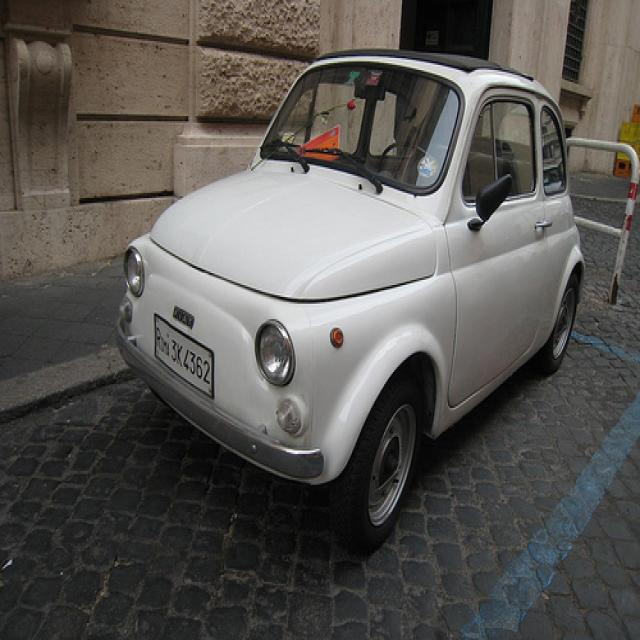Car: (115, 44, 590, 548)
